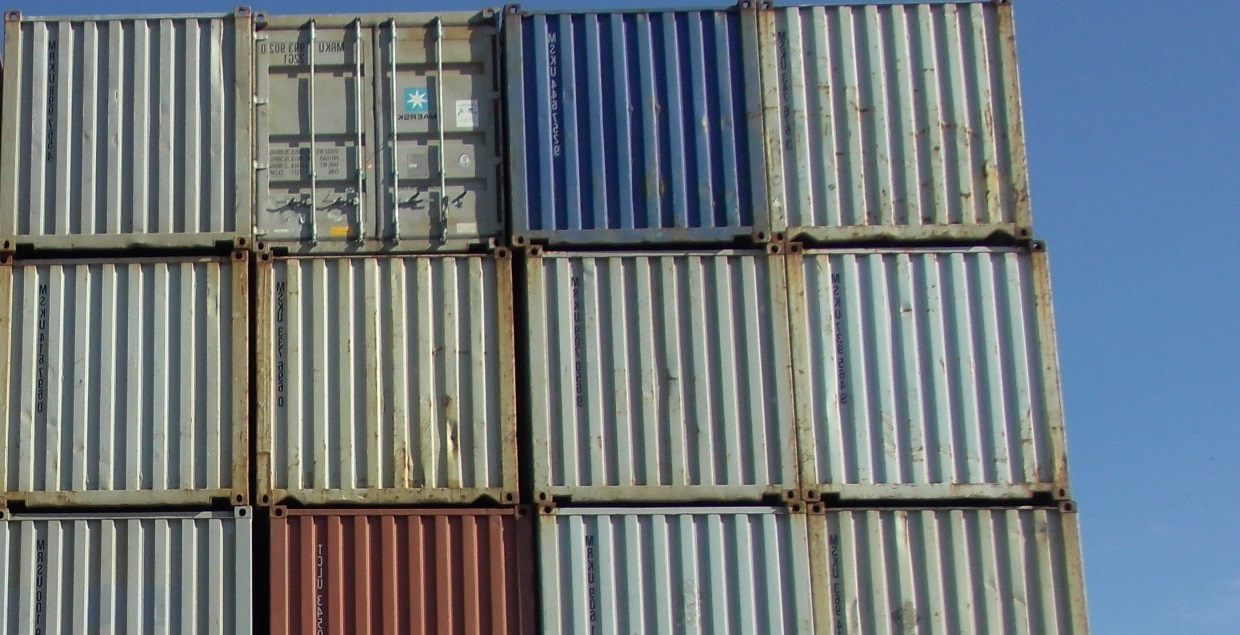container_door: (257, 8, 505, 242)
container_no_door: (252, 250, 524, 508), (524, 248, 796, 506), (794, 245, 1065, 502), (759, 1, 1041, 240), (502, 1, 766, 238), (3, 5, 250, 256), (1, 255, 247, 506), (268, 506, 534, 635), (545, 506, 811, 635), (810, 506, 1076, 635), (1, 506, 252, 635)
